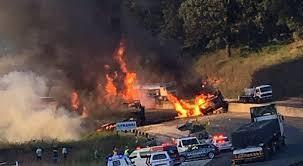fire: (100, 43, 139, 103), (161, 87, 222, 118), (67, 87, 91, 114)
